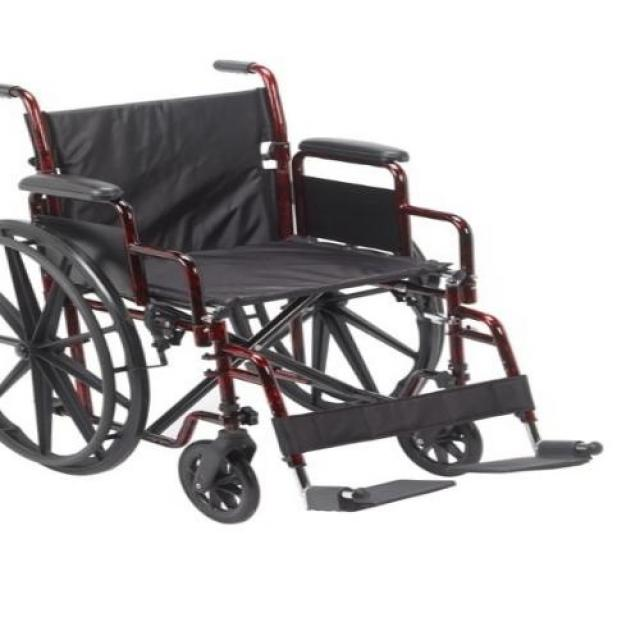wheelchair: (1, 51, 619, 529)
